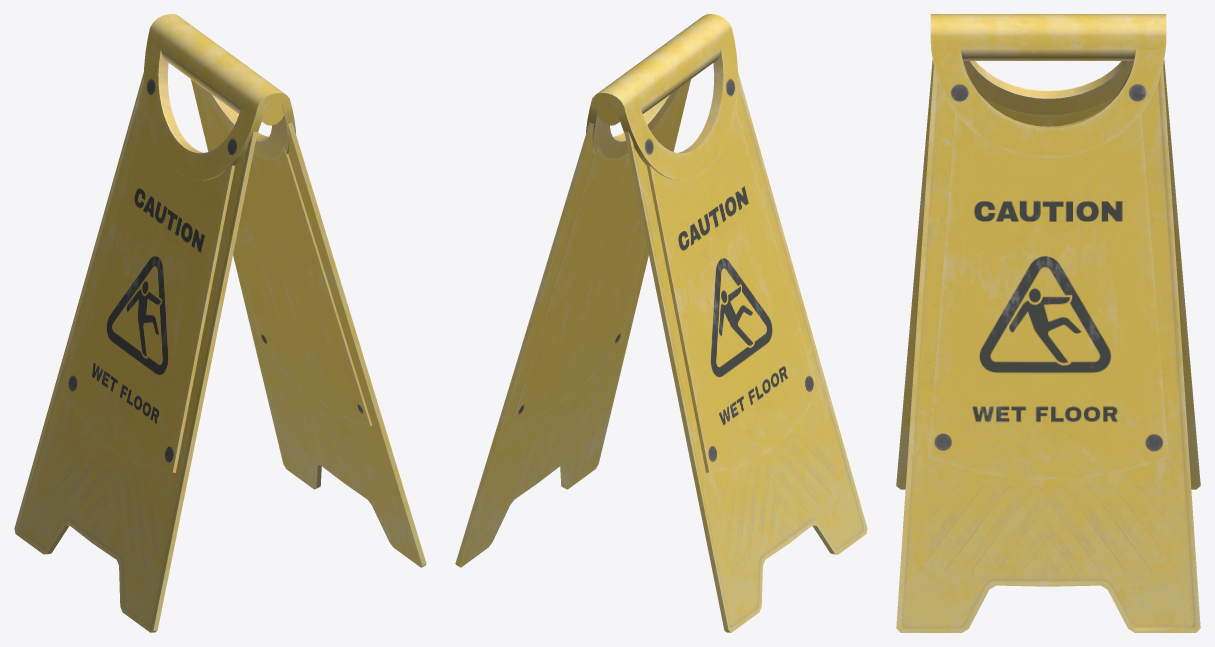
Rendered from SM_WetSign_01a.fbx.
The picture shows the model from 3 angles, left to right: view 1: azimuth 30°, elevation 25°; view 2: azimuth 150°, elevation 25°; view 3: azimuth 270°, elevation 25°; orthographic projection. The views are drawn at different scales.
Visible parts, largest first — view 1: SM_WetSign_01a; view 2: SM_WetSign_01a; view 3: SM_WetSign_01a.
Boxes of the visible parts, x1,y1,x2,y2 form: SM_WetSign_01a: [14, 14, 426, 632]; SM_WetSign_01a: [455, 14, 867, 632]; SM_WetSign_01a: [896, 14, 1200, 632].
Bounding box in the file's own units: 36.46 × 31.91 × 62.97.
Materials: 1 (1 with a texture image).
